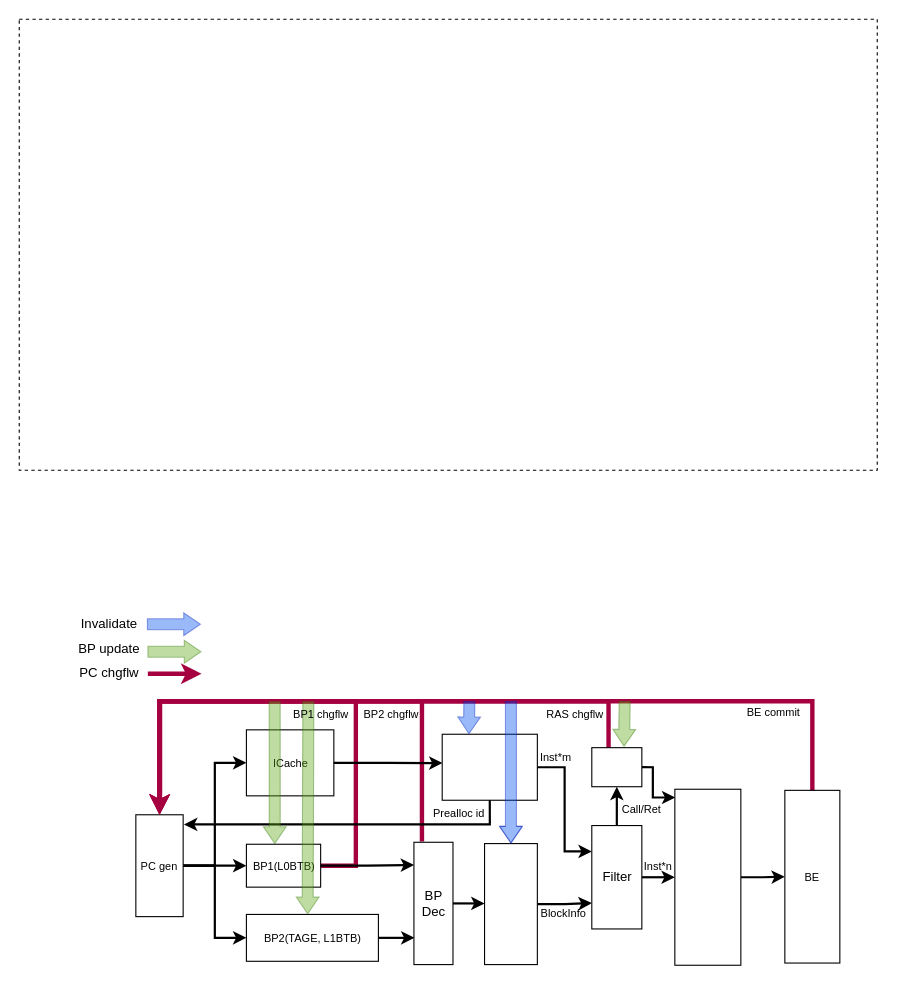
Some shapes in this 897 by 985 pixel diagram are drawn without their labels. The centre of each missing label's shape, as x and y in pixels:
"Branch Target FIFO" belongs at (x=510, y=903).
"Decoder" belongs at (x=707, y=876).
"RAS" belongs at (x=616, y=767).
"ROB" belongs at (x=489, y=766).
